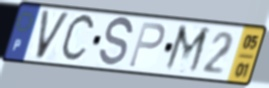2: (200, 30, 235, 77)
C: (58, 11, 98, 65)
M: (161, 22, 213, 77)
P: (126, 20, 167, 70)
S: (97, 15, 135, 70)
V: (35, 9, 72, 63)
